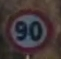limite 90: (3, 8, 54, 54)
